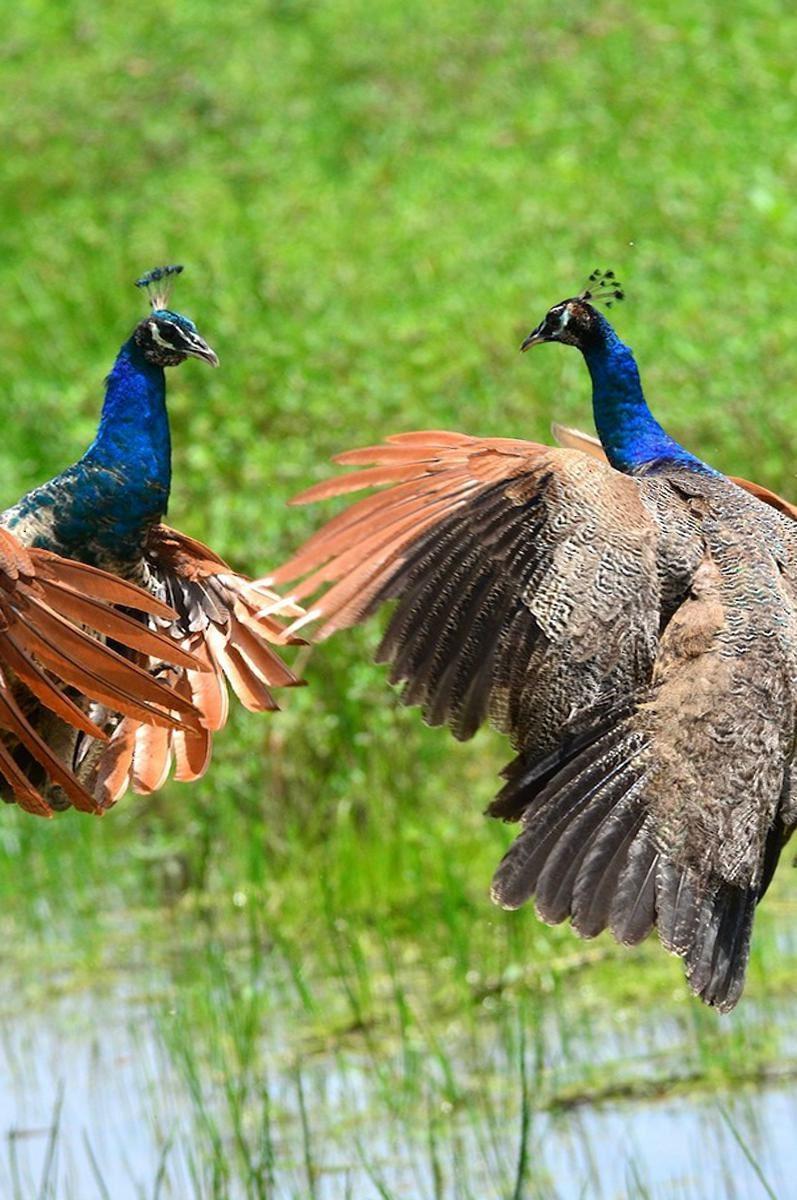peacock: (377, 257, 797, 954), (1, 211, 263, 876)
